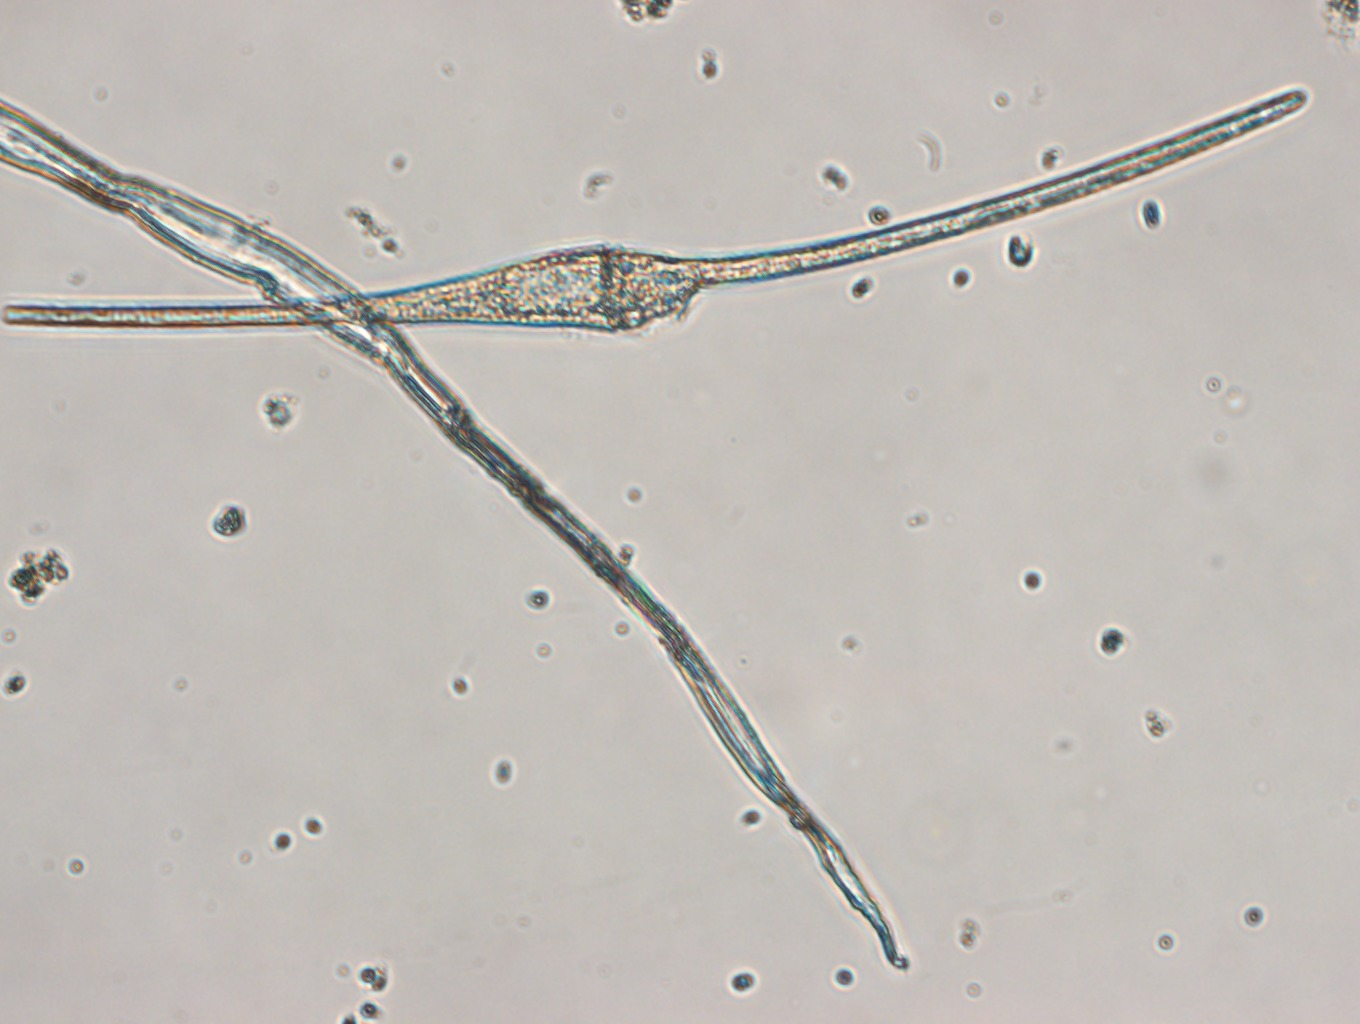ceratium fusus: (1, 106, 935, 975), (1, 88, 1313, 333)
